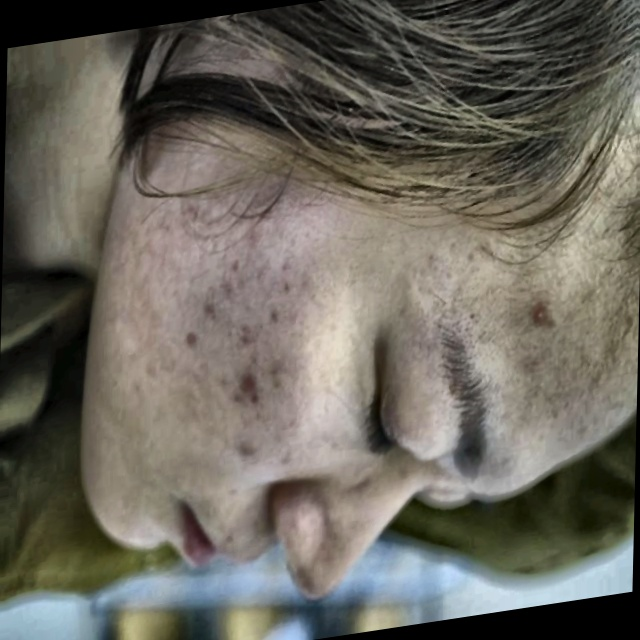comedone: (523, 291, 557, 348), (218, 381, 254, 428), (179, 316, 201, 359)
